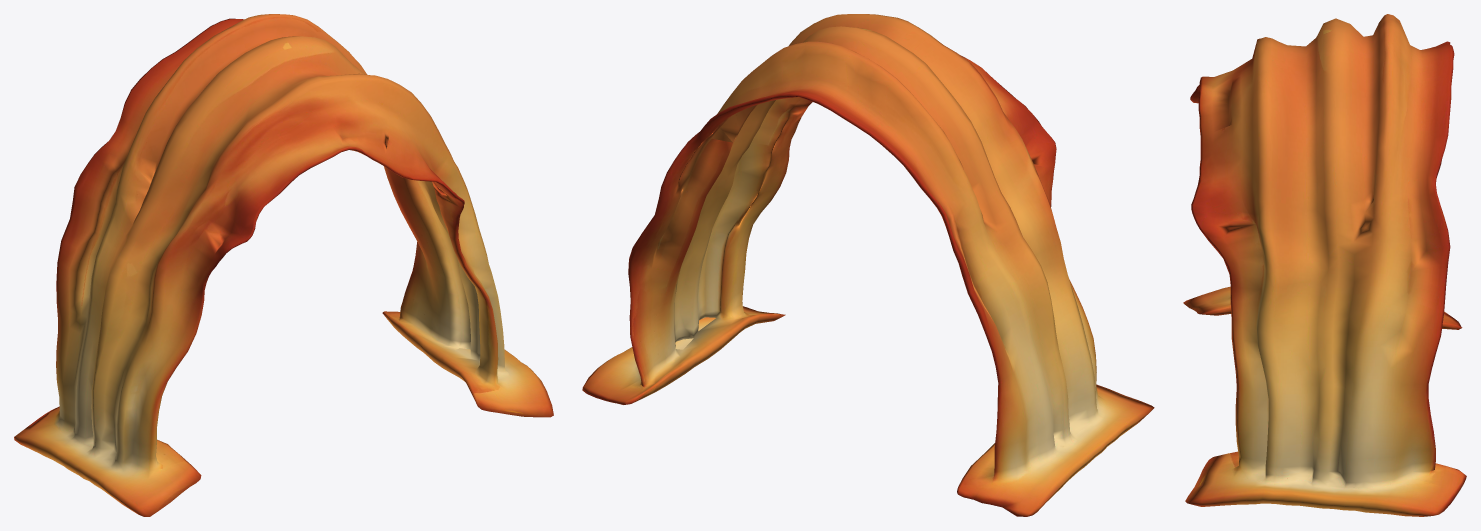
File: solar-prominence-plume.glb
The picture shows the model from 3 angles, left to right: view 1: azimuth 30°, elevation 25°; view 2: azimuth 150°, elevation 25°; view 3: azimuth 270°, elevation 25°; orthographic projection. The views are drawn at different scales.
Parts seen in each view (by area): view 1: Solar Magnetic Prominence Ribbon; view 2: Solar Magnetic Prominence Ribbon; view 3: Solar Magnetic Prominence Ribbon.
Boxes of the visible parts, box(x1,y1,x2,y2) form: Solar Magnetic Prominence Ribbon: box(14, 14, 553, 516); Solar Magnetic Prominence Ribbon: box(582, 14, 1154, 516); Solar Magnetic Prominence Ribbon: box(1183, 14, 1466, 516).
Bounding box in the file's own units: 0.998 × 0.8262 × 0.5371.
1 material, 1 textured.
